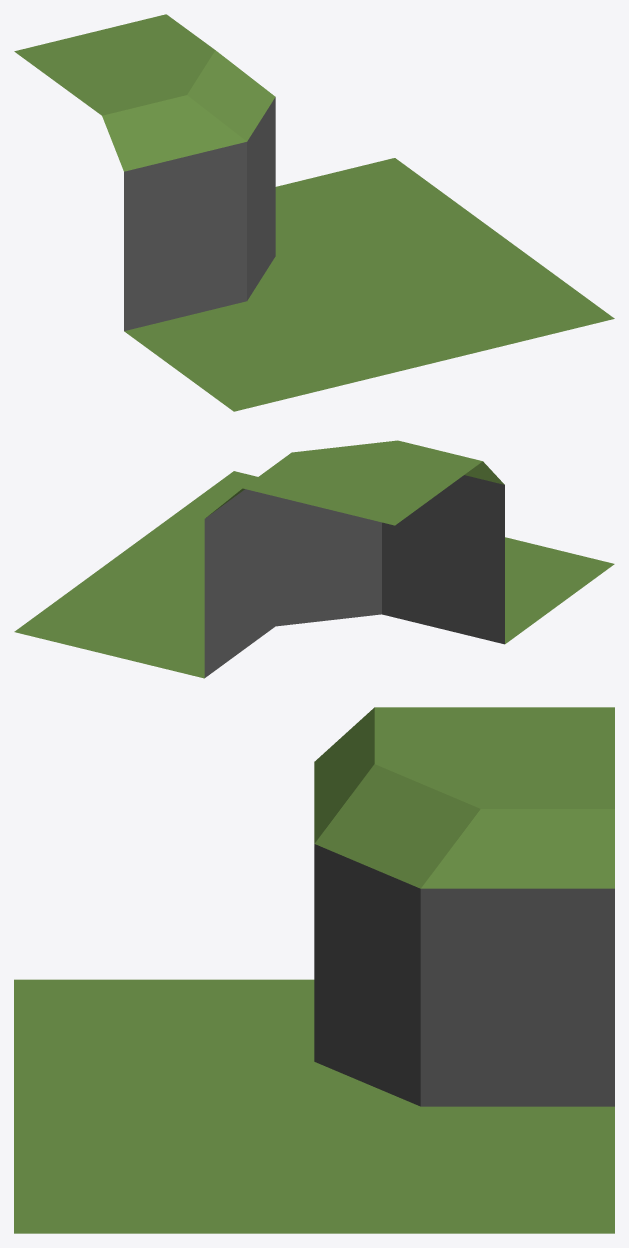
File: cliff_outer_corner.fbx
3 views of the same model, one above another, from view 1: azimuth 30°, elevation 25°; view 2: azimuth 150°, elevation 25°; view 3: azimuth 270°, elevation 25° (orthographic). The views are drawn at different scales.
Visible parts, largest first — view 1: Cube.006; view 2: Cube.006; view 3: Cube.006.
Boxes of the visible parts, box(x1,y1,x2,y2) form: Cube.006: box(14, 14, 614, 411); Cube.006: box(14, 440, 614, 678); Cube.006: box(14, 707, 614, 1233).
Bounding box in the file's own units: 200 × 100 × 200.
